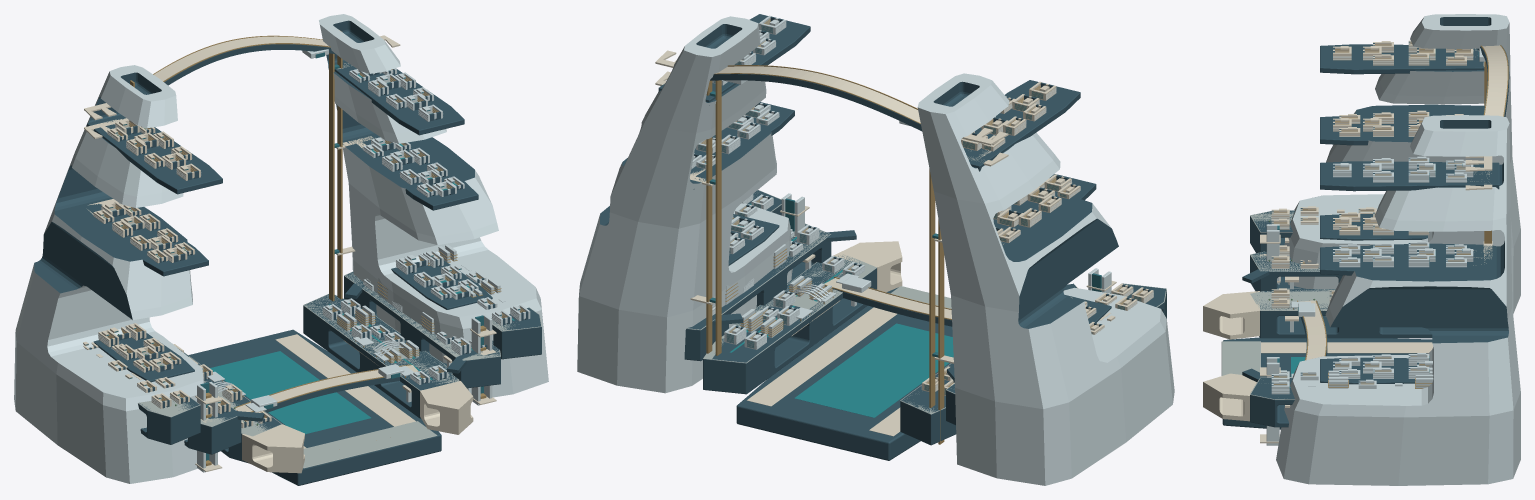
The model's file is R15_OPEN_CLEFT_ATTEMPT.glb.
3 views of the same model, side by side, from view 1: azimuth 30°, elevation 25°; view 2: azimuth 150°, elevation 25°; view 3: azimuth 270°, elevation 25° (orthographic). The views are drawn at different scales.
Parts seen in each view (by area): view 1: WEST_GARDEN_CONTINUOUS_INHABITED_ESCARPMENT, EAST_WATER_CONTINUOUS_INHABITED_ESCARPMENT, LOWER_CIVIC_GROUND, Central_basin, EAST_WATER_T0_inhabited_landform, EAST_WATER_T1_inhabited_landform, WEST_GARDEN_civic_sky_court.002, Southern_civic_forecourt, WEST_GARDEN_PUBLIC_PROW, EAST_WATER_civic_sky_court.002, EAST_WATER_PUBLIC_PROW, Lower_public_promenade.001 (+16 smaller); view 2: WEST_GARDEN_CONTINUOUS_INHABITED_ESCARPMENT, EAST_WATER_CONTINUOUS_INHABITED_ESCARPMENT, LOWER_CIVIC_GROUND, Central_basin, EAST_WATER_T0_inhabited_landform, EAST_WATER_T1_inhabited_landform, Lower_public_promenade.001, WEST_GARDEN_civic_sky_court.002, WEST_GARDEN_T0_inhabited_landform, UPPER_CIVIC_VESSEL_public_street, EAST_WATER_CLEFT_LIFT_reveal, EAST_WATER_PUBLIC_PROW (+11 smaller); view 3: EAST_WATER_CONTINUOUS_INHABITED_ESCARPMENT, WEST_GARDEN_CONTINUOUS_INHABITED_ESCARPMENT, EAST_WATER_civic_sky_court.002, WEST_GARDEN_civic_sky_court.002, WEST_GARDEN_T0_inhabited_landform, WEST_GARDEN_PUBLIC_PROW, EAST_WATER_civic_sky_court.001, EAST_WATER_PUBLIC_PROW, LOWER_CIVIC_GROUND, Lower_public_promenade, EAST_WATER_T2_inhabited_landform, WEST_GARDEN_civic_sky_court.001 (+11 smaller).
Part boxes in pixels (bbox=[...]): WEST_GARDEN_CONTINUOUS_INHABITED_ESCARPMENT: bbox=[14, 65, 204, 483]; EAST_WATER_CONTINUOUS_INHABITED_ESCARPMENT: bbox=[319, 14, 548, 397]; LOWER_CIVIC_GROUND: bbox=[188, 329, 441, 485]; Central_basin: bbox=[210, 351, 371, 434]; EAST_WATER_T0_inhabited_landform: bbox=[303, 294, 457, 418]; EAST_WATER_T1_inhabited_landform: bbox=[344, 272, 500, 388]; WEST_GARDEN_civic_sky_court.002: bbox=[87, 115, 222, 194]; Southern_civic_forecourt: bbox=[303, 421, 437, 468]; WEST_GARDEN_PUBLIC_PROW: bbox=[242, 424, 304, 473]; EAST_WATER_civic_sky_court.002: bbox=[328, 60, 464, 135]; EAST_WATER_PUBLIC_PROW: bbox=[420, 381, 473, 434]; Lower_public_promenade.001: bbox=[275, 334, 415, 426]; WEST_GARDEN_CONTINUOUS_INHABITED_ESCARPMENT: bbox=[917, 73, 1174, 485]; EAST_WATER_CONTINUOUS_INHABITED_ESCARPMENT: bbox=[577, 16, 792, 393]; LOWER_CIVIC_GROUND: bbox=[736, 287, 952, 460]; Central_basin: bbox=[794, 323, 953, 417]; EAST_WATER_T0_inhabited_landform: bbox=[703, 256, 876, 394]; EAST_WATER_T1_inhabited_landform: bbox=[684, 224, 831, 361]; Lower_public_promenade.001: bbox=[747, 307, 896, 406]; WEST_GARDEN_civic_sky_court.002: bbox=[963, 80, 1080, 171]; WEST_GARDEN_T0_inhabited_landform: bbox=[900, 363, 956, 445]; UPPER_CIVIC_VESSEL_public_street: bbox=[716, 66, 920, 122]; EAST_WATER_CLEFT_LIFT_reveal: bbox=[715, 80, 721, 355]; EAST_WATER_PUBLIC_PROW: bbox=[833, 241, 902, 292]; EAST_WATER_CONTINUOUS_INHABITED_ESCARPMENT: bbox=[1276, 115, 1520, 485]; WEST_GARDEN_CONTINUOUS_INHABITED_ESCARPMENT: bbox=[1284, 14, 1520, 313]; EAST_WATER_civic_sky_court.002: bbox=[1320, 161, 1499, 191]; WEST_GARDEN_civic_sky_court.002: bbox=[1320, 44, 1484, 74]; WEST_GARDEN_T0_inhabited_landform: bbox=[1257, 289, 1432, 338]; WEST_GARDEN_PUBLIC_PROW: bbox=[1203, 291, 1259, 339]; EAST_WATER_civic_sky_court.001: bbox=[1320, 246, 1496, 275]; EAST_WATER_PUBLIC_PROW: bbox=[1203, 373, 1256, 421]; LOWER_CIVIC_GROUND: bbox=[1222, 337, 1432, 429]; Lower_public_promenade: bbox=[1261, 342, 1433, 353]; EAST_WATER_T2_inhabited_landform: bbox=[1250, 378, 1294, 427]; WEST_GARDEN_civic_sky_court.001: bbox=[1320, 115, 1416, 145].
Bounding box in the file's own units: 2740 × 1884 × 1700.
